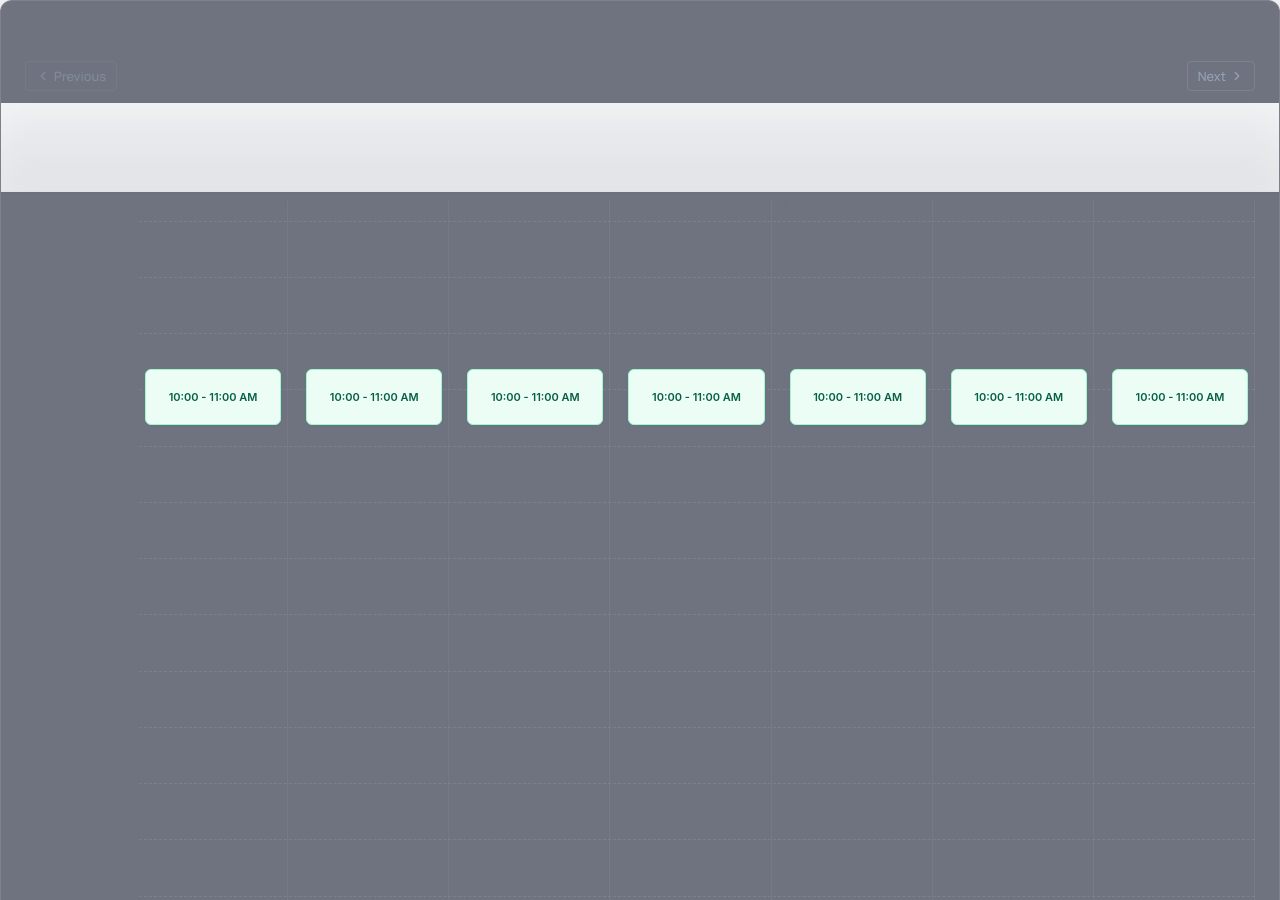
Test: CalendarGrid - anchoring the default window on the upcoming week (#112) › keeps the omitted-days notice numerically accurate on both pages, and never claims a position
Click the button with aria-label "Show later session days" at point(1221, 76), box [1187,61,1255,92]
(page scrolled)
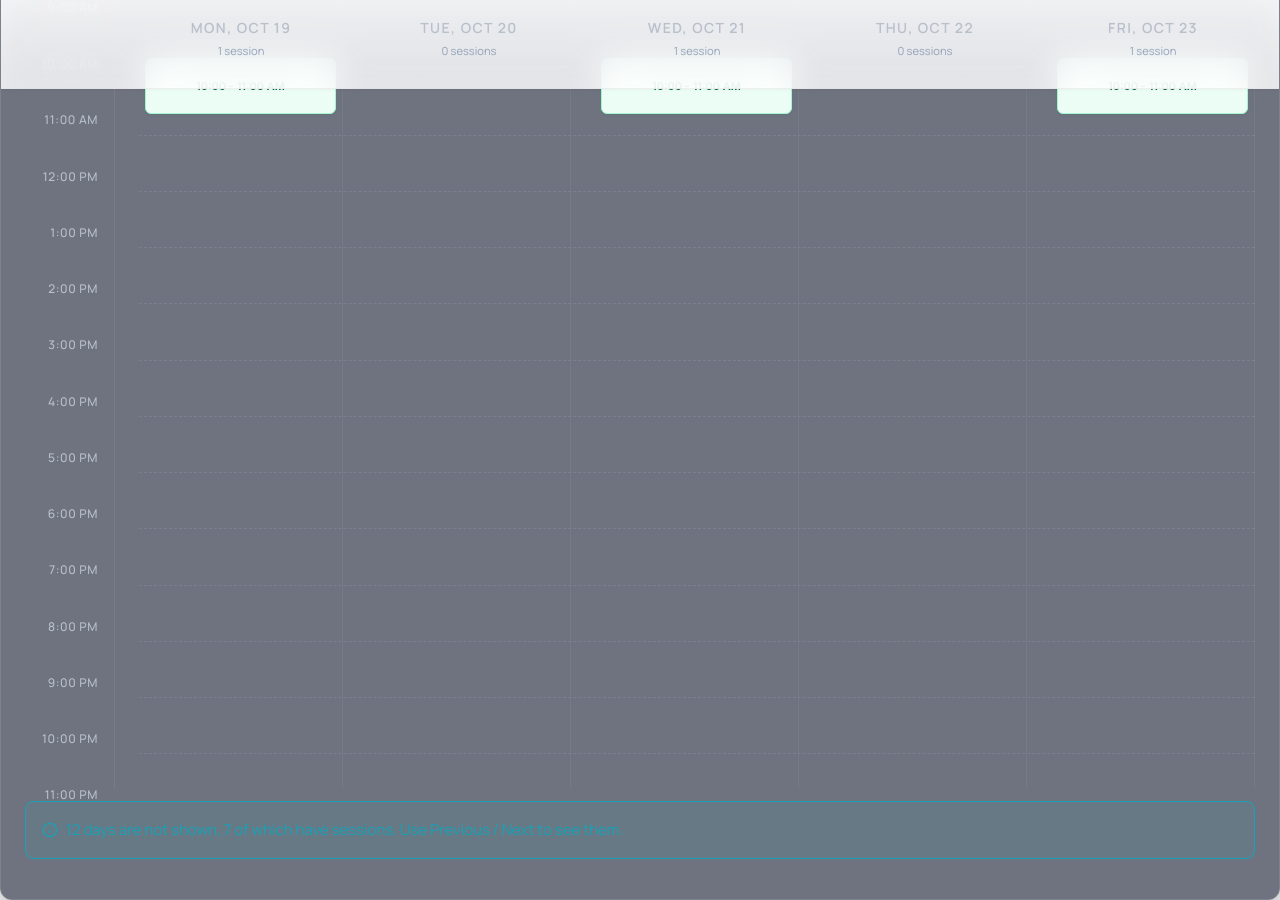
Expected: the message does not show "first", [25,802,1255,860]
Expected: the message shows "12 days are not shown, 7 of which have sessions. Use Previous / Next to see them.", [25,802,1255,860]
